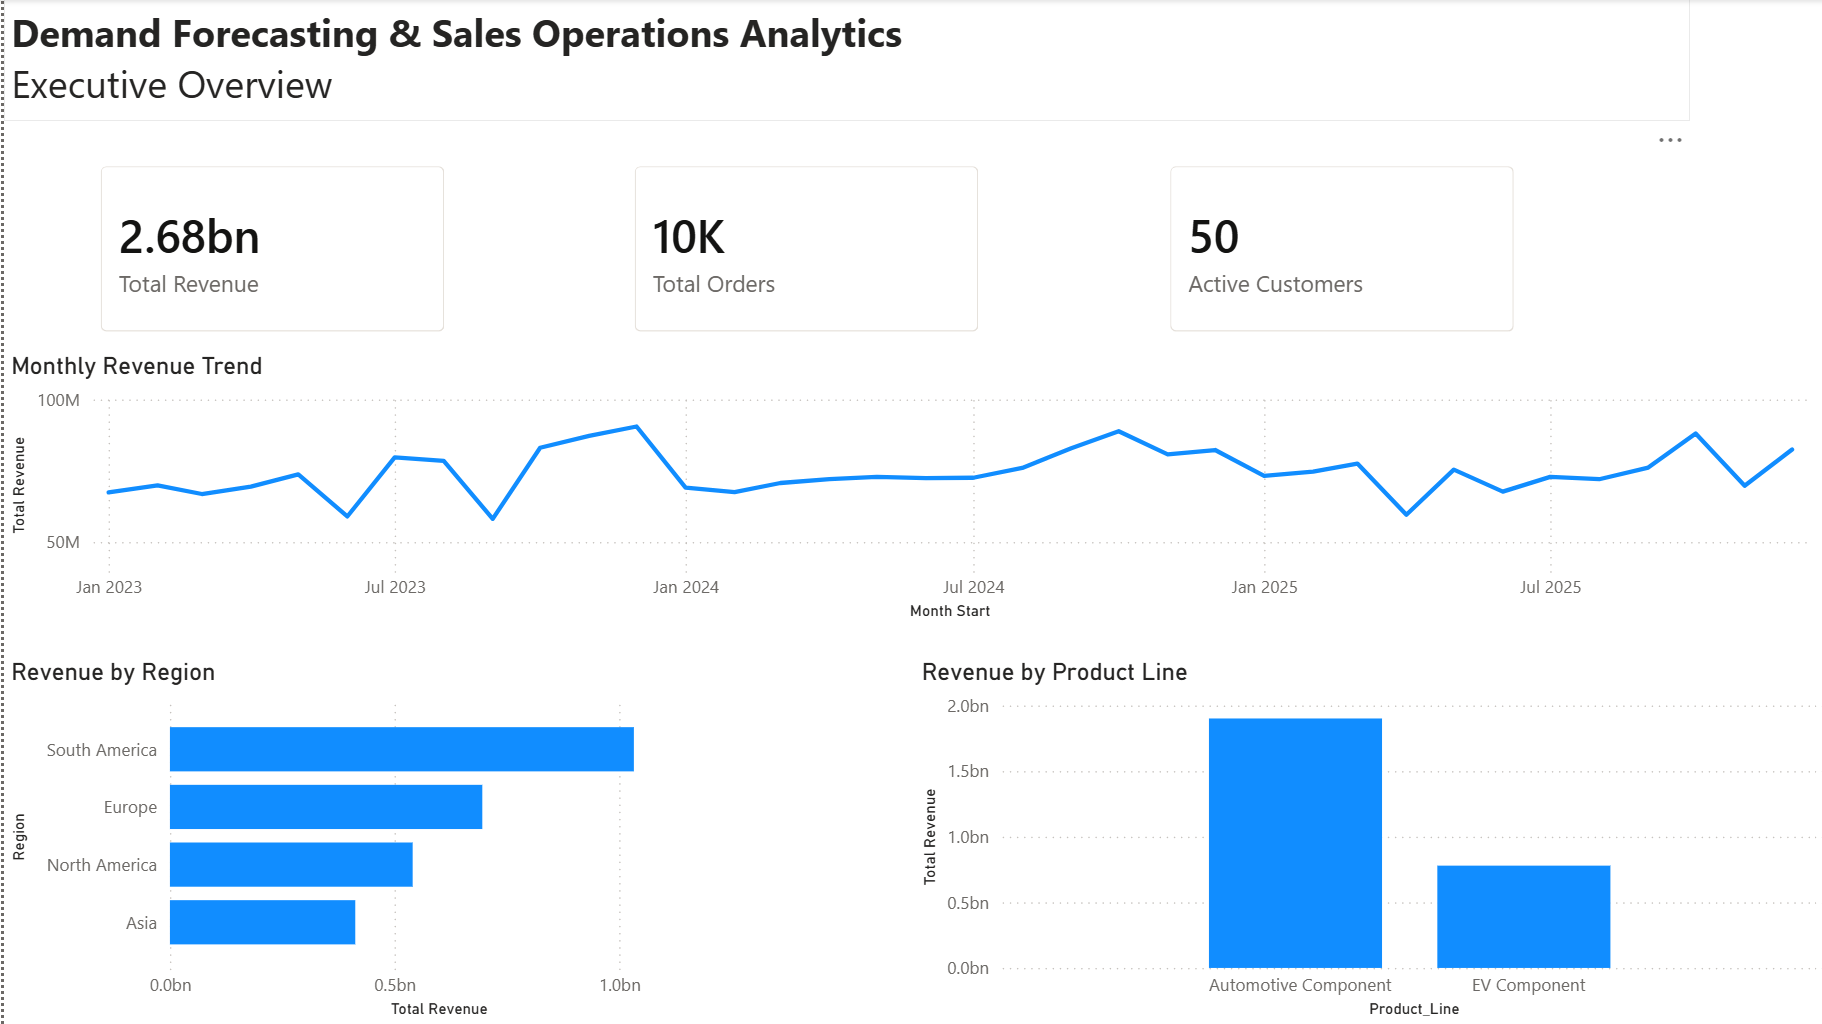

What the dashboard file says about the page in this screenshot:
{"tool":"powerbi","page":{"name":"Executive Overview","canvas":[1280,720],"ordinal":0},"visuals":[{"type":"cardVisual","fields":{"Data":["sales_orders.Total Revenue"]},"box":[50,100,275.5,150],"z":0},{"type":"clusteredBarChart","title":"Revenue by Region","fields":{"Category":["regions.Region"],"Y":["sales_orders.Total Revenue"]},"box":[0,461.6,513.9,256.3],"z":1000},{"type":"cardVisual","fields":{"Data":["sales_orders.Active Customers"]},"box":[800,100,275,150],"z":2000},{"type":"textbox","box":[0,0,1181.7,85.5],"z":3000},{"type":"lineChart","title":"Monthly Revenue Trend","fields":{"Category":["Calendar.Month Start"],"Y":["sales_orders.Total Revenue"]},"box":[0,247.2,1280.3,192.2],"z":4000},{"type":"columnChart","title":"Revenue by Product Line","fields":{"Category":["products.Product_Line"],"Y":["sales_orders.Total Revenue"]},"box":[638.2,461.6,643.4,256.3],"z":5000},{"type":"cardVisual","fields":{"Data":["sales_orders.Total Orders"]},"box":[425,100,275,150],"z":6000}]}

Visuals, with their boxes in screenshot pixels (x1, y1, x2, y2), scaled from the page's 1280x720 canvas onto the 1822x1024 screenshot:
cardVisual - sales_orders.Total Revenue: select_region(71, 142, 463, 356)
"Revenue by Region" clusteredBarChart: select_region(0, 656, 732, 1021)
cardVisual - sales_orders.Active Customers: select_region(1139, 142, 1530, 356)
textbox: select_region(0, 0, 1682, 122)
"Monthly Revenue Trend" lineChart: select_region(0, 352, 1821, 625)
"Revenue by Product Line" columnChart: select_region(908, 656, 1821, 1021)
cardVisual - sales_orders.Total Orders: select_region(605, 142, 996, 356)
